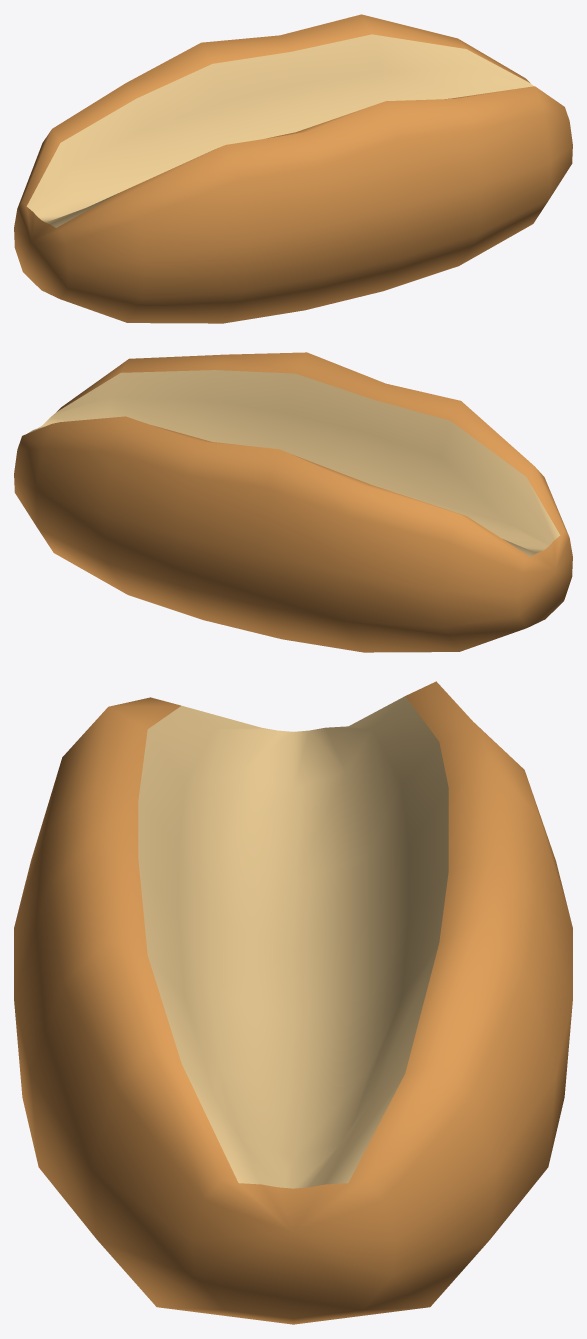
Rendered from pan_frances.glb.
3 renders of one model, top to bottom at view 1: azimuth 30°, elevation 25°; view 2: azimuth 150°, elevation 25°; view 3: azimuth 270°, elevation 25°, orthographic. The views are drawn at different scales.
Visible parts, largest first — view 1: pan_frances; view 2: pan_frances; view 3: pan_frances.
Boxes of the visible parts, x1,y1,x2,y2 form: pan_frances: [14, 14, 572, 323]; pan_frances: [14, 352, 572, 652]; pan_frances: [14, 681, 572, 1324].
Size of the model in its own units: 0.16 by 0.0597 by 0.0796.
